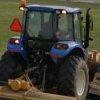Tractor: (10, 2, 100, 92)
